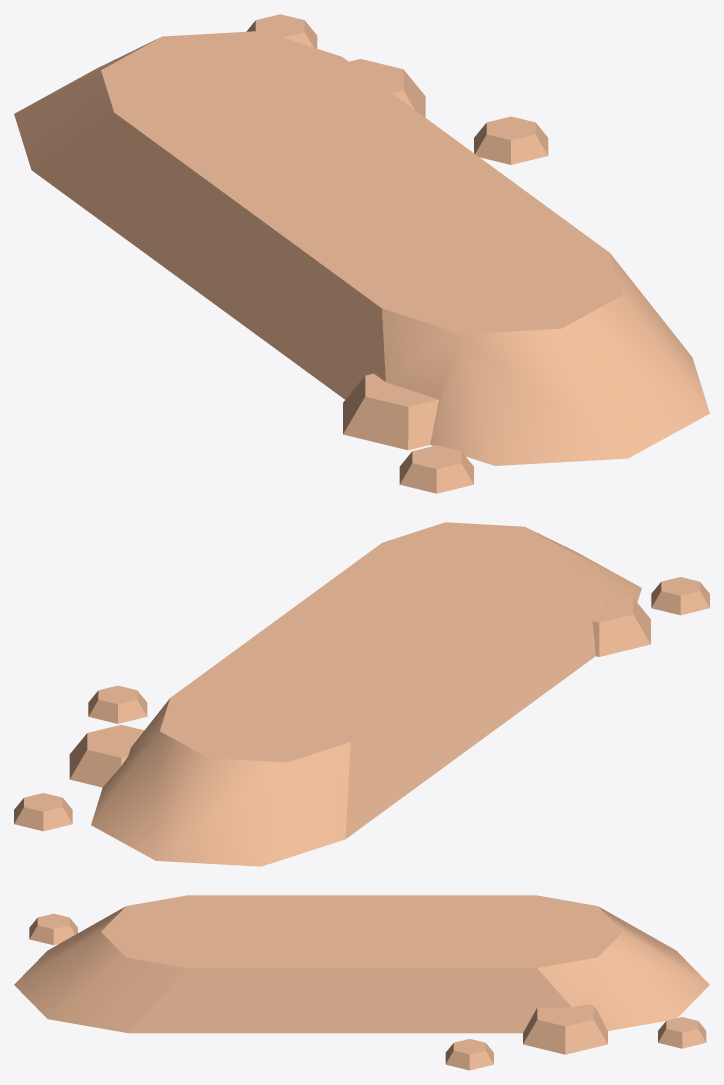
The model's file is grave.glb.
The picture shows the model from 3 angles, top to bottom: view 1: azimuth 30°, elevation 25°; view 2: azimuth 150°, elevation 25°; view 3: azimuth 270°, elevation 25°; orthographic projection. The views are drawn at different scales.
Visible parts, largest first — view 1: grave; view 2: grave; view 3: grave.
Boxes of the visible parts, bbox=[...] form: grave: bbox=[14, 14, 709, 493]; grave: bbox=[14, 522, 709, 866]; grave: bbox=[14, 895, 709, 1070].
Bounding box in the file's own units: 0.5731 × 0.0952 × 1.13.
